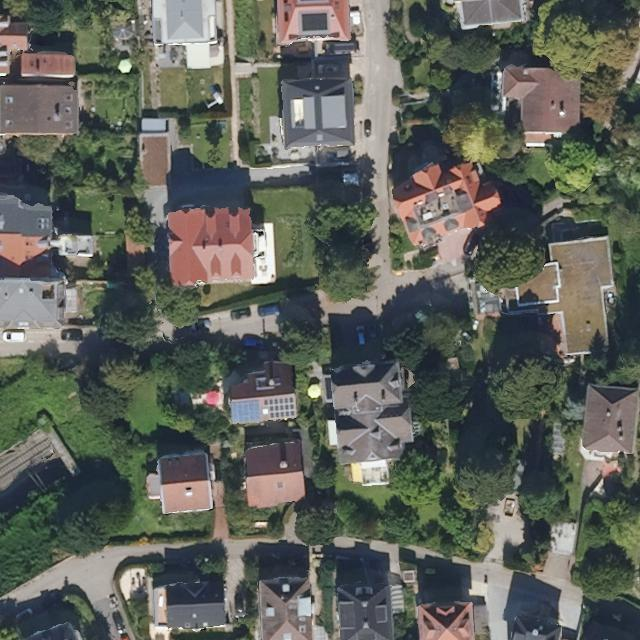PV: (263, 396, 296, 419), (230, 398, 261, 422)
